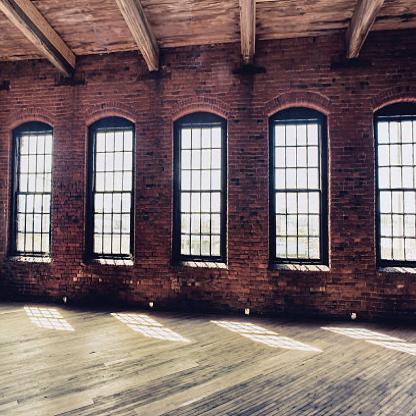Window: (267, 96, 331, 270), (171, 105, 228, 268), (9, 112, 53, 258), (89, 116, 133, 258)
